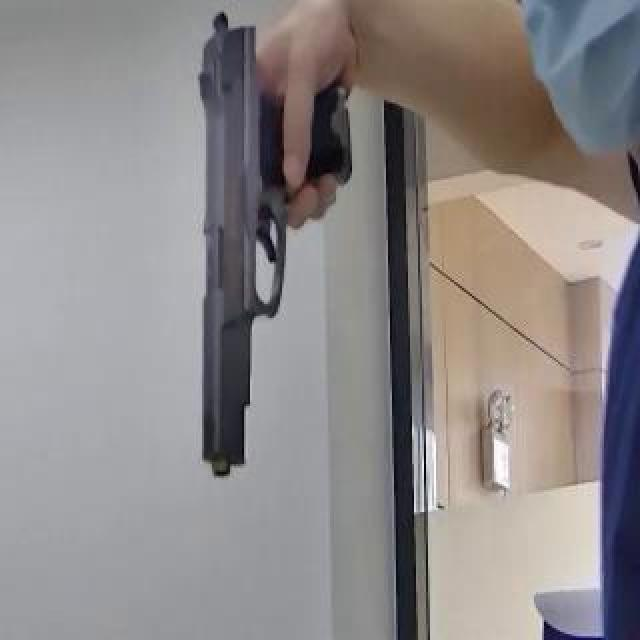Guns: (168, 0, 372, 524)
